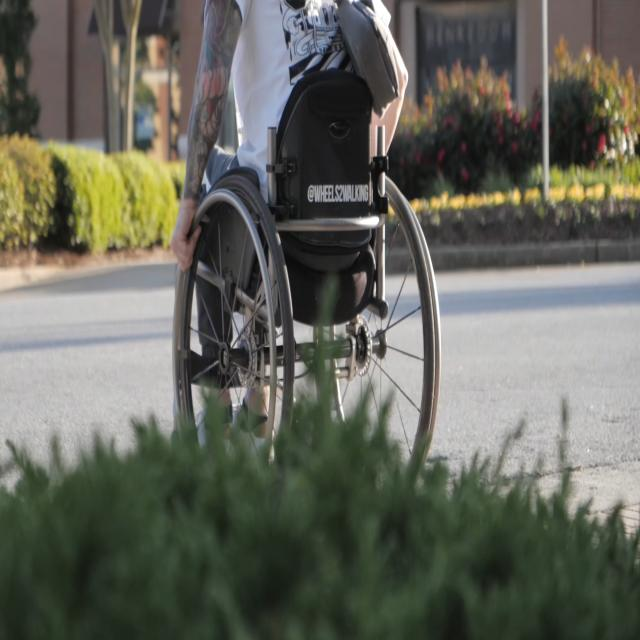wheelchairs: (170, 67, 443, 499)
